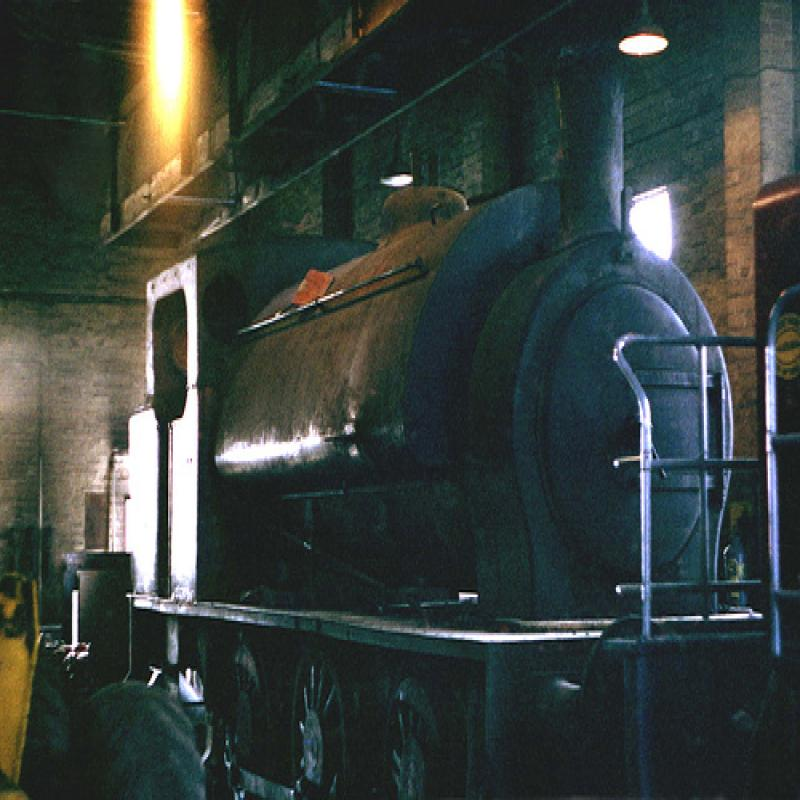train: (121, 35, 771, 799)
